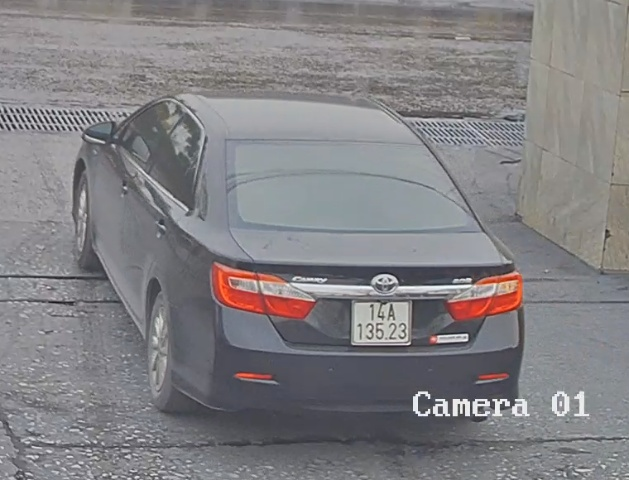vehicle plate: (347, 298, 415, 349)
